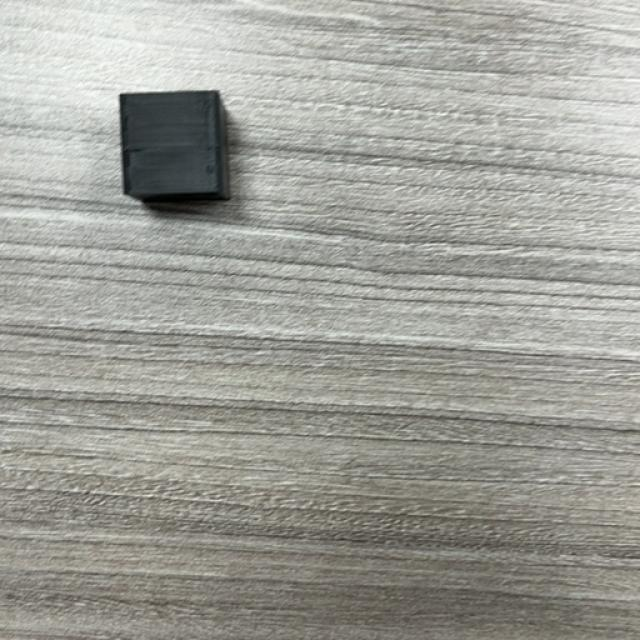Negro: (118, 90, 231, 205)
